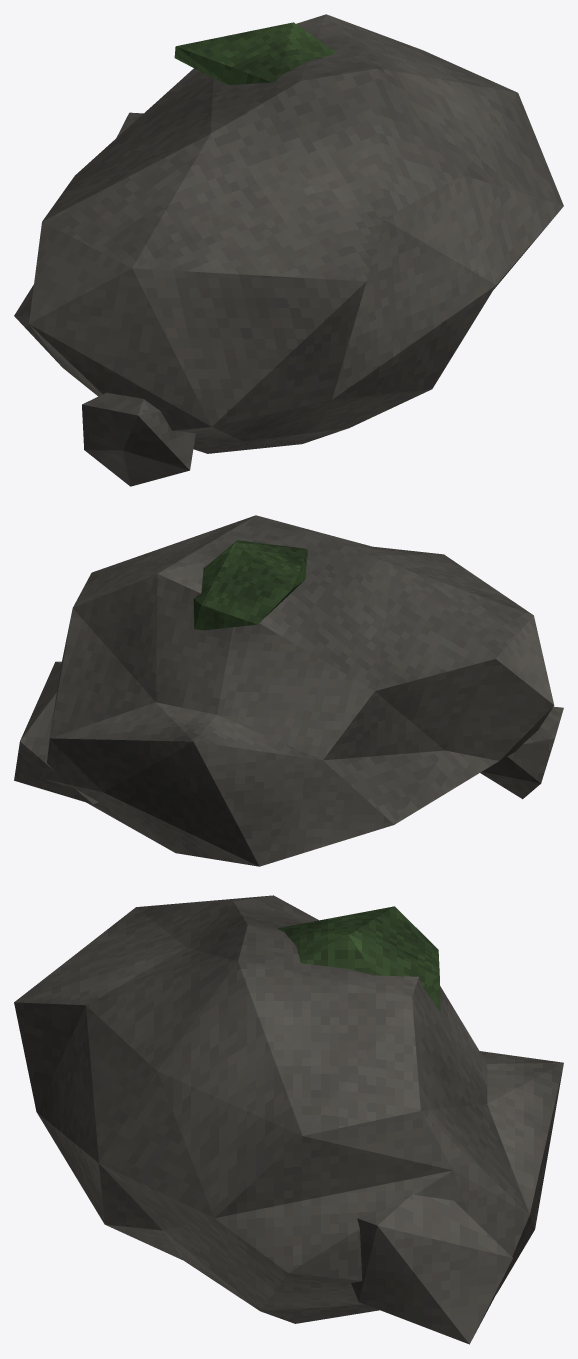
File: island_rock.glb
3 renders of one model, top to bottom at view 1: azimuth 30°, elevation 25°; view 2: azimuth 150°, elevation 25°; view 3: azimuth 270°, elevation 25°, orthographic. The views are drawn at different scales.
Visible parts, largest first — view 1: island_rock; view 2: island_rock; view 3: island_rock.
Part boxes in pixels (x1,y1,x2,y2): island_rock: (14,14,563,486); island_rock: (14,515,563,866); island_rock: (14,895,563,1344).
Size of what is drawn, in the model's own units: 2.13 by 1.48 by 1.86.
Materials: 2 (2 with a texture image).
